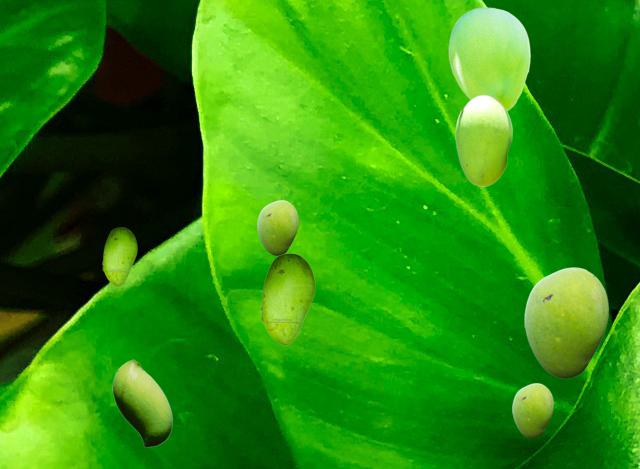green_mango: (524, 267, 607, 377), (448, 7, 529, 111), (112, 359, 171, 446), (455, 94, 511, 185), (260, 253, 314, 344), (512, 383, 552, 437), (257, 200, 297, 254), (102, 227, 136, 285)
